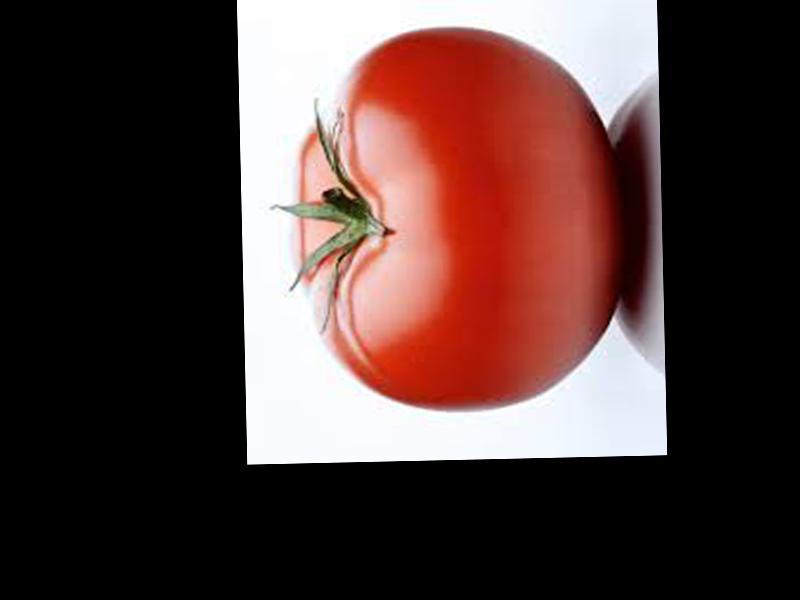Tomato: (290, 25, 623, 415)
